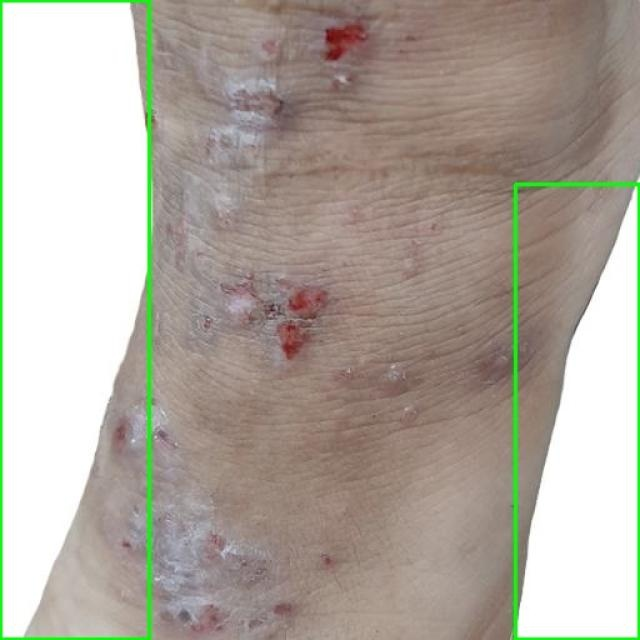Eczema: (0, 0, 149, 639), (515, 184, 639, 639)
